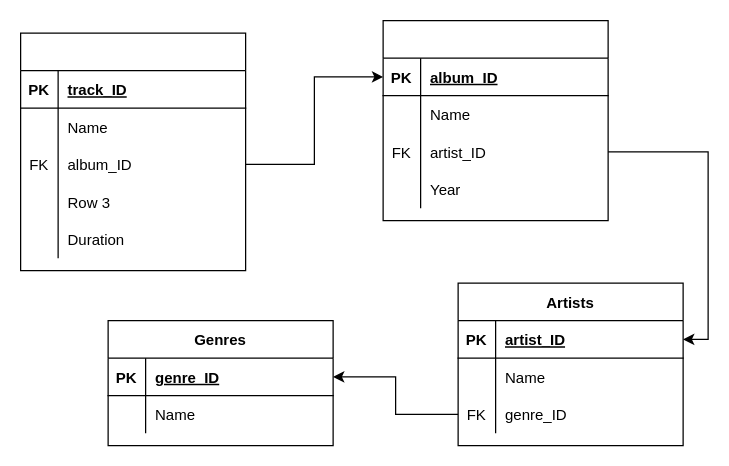
Image size: 729x466. Some labels were removed from this diagram. The box of each missing label's shape, as (x1, y1, x2, y2) in pixels:
Albums: (382, 19, 608, 221)
Tracks: (19, 32, 246, 271)
